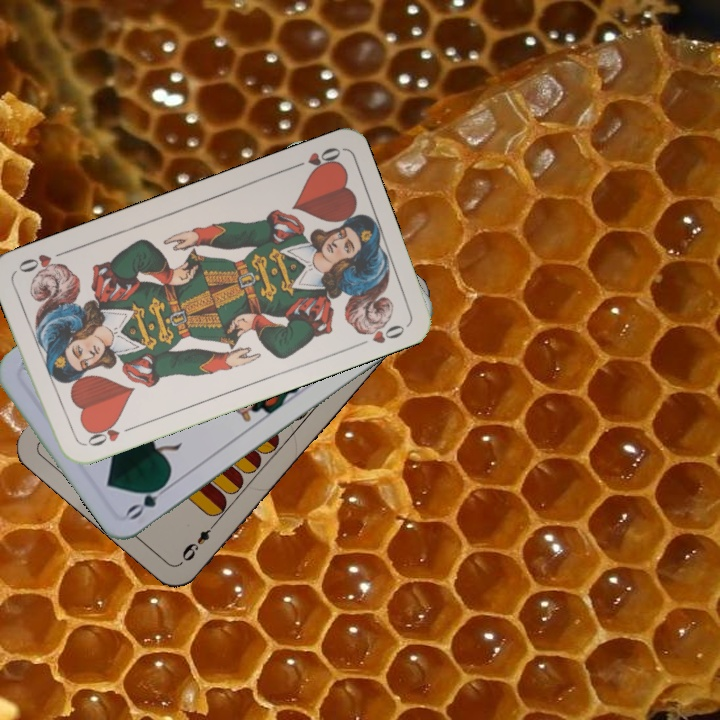E9: (177, 517, 220, 566)
GO: (122, 475, 175, 523)
HO: (286, 143, 344, 176), (78, 417, 136, 449)
